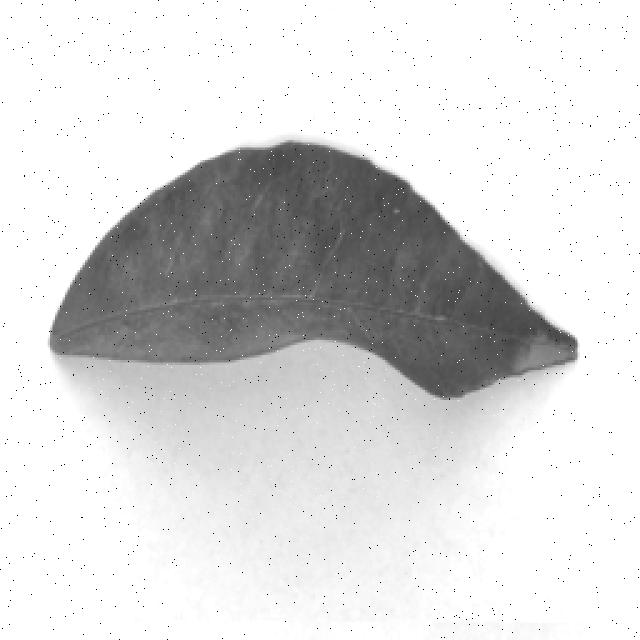healthy: (45, 138, 569, 410)
